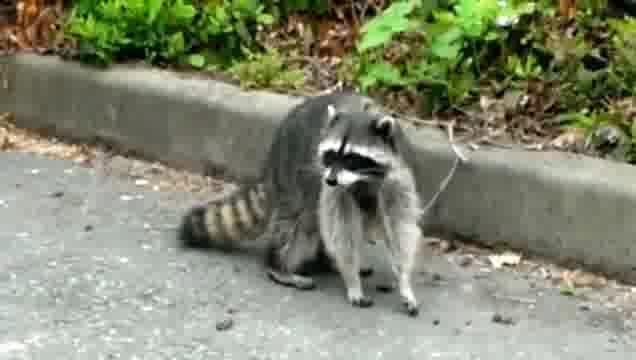raccoon: (181, 97, 423, 316)
